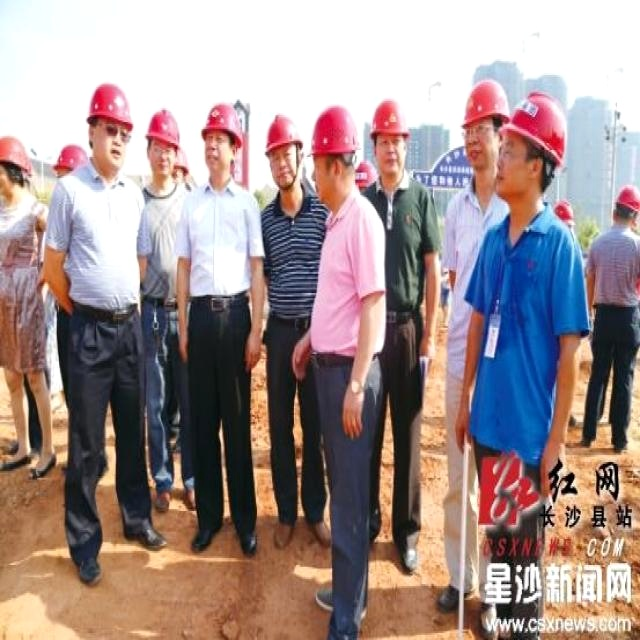Con_Casco: (309, 104, 359, 204), (88, 82, 131, 167)
Sin_Chaleco: (50, 168, 150, 308), (177, 177, 261, 304)
